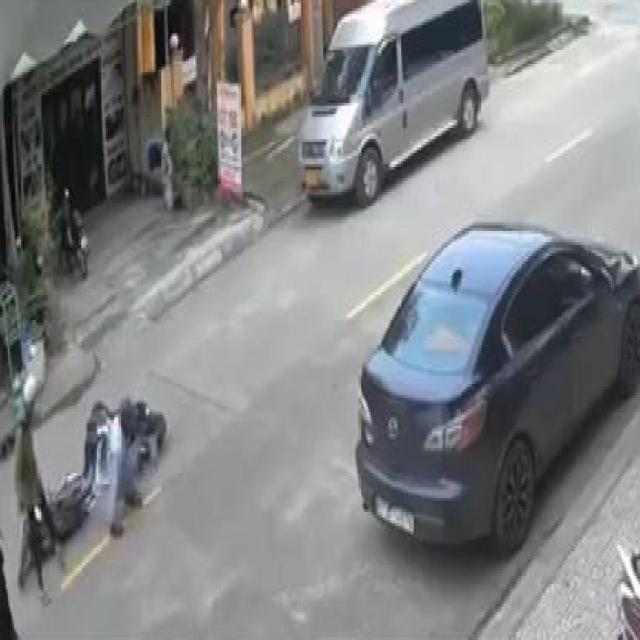accident: (12, 348, 172, 604)
